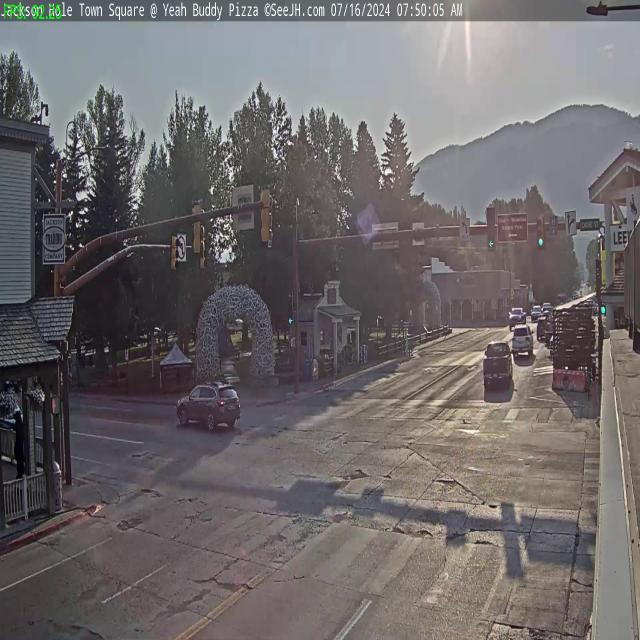pickup: (483, 340, 513, 382), (508, 306, 527, 329)
suv: (176, 378, 243, 434), (512, 323, 534, 357), (536, 316, 551, 340), (531, 304, 541, 319)
traffic light: (260, 185, 275, 246), (191, 198, 203, 254), (169, 234, 179, 272), (487, 208, 496, 250), (200, 231, 208, 269), (538, 214, 544, 249)
